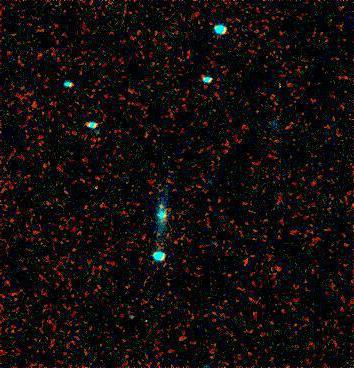star: (146, 193, 176, 223)
